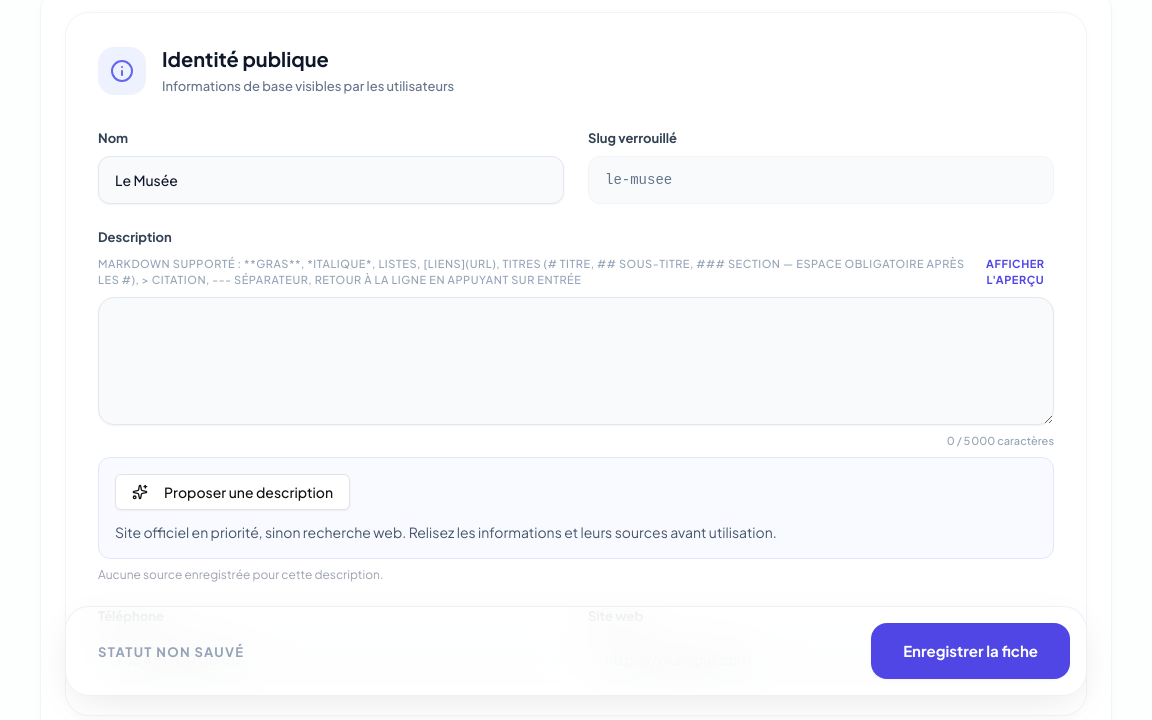
Test case: 041 AC-04 Admin publication controls › AC-04-01/03: keeps saved eligibility unchanged when saving the description fails
(page scrolled)
Type "Texte relu." into the text box labelled "Description" at (576, 361), box 98,297 -> 1054,425
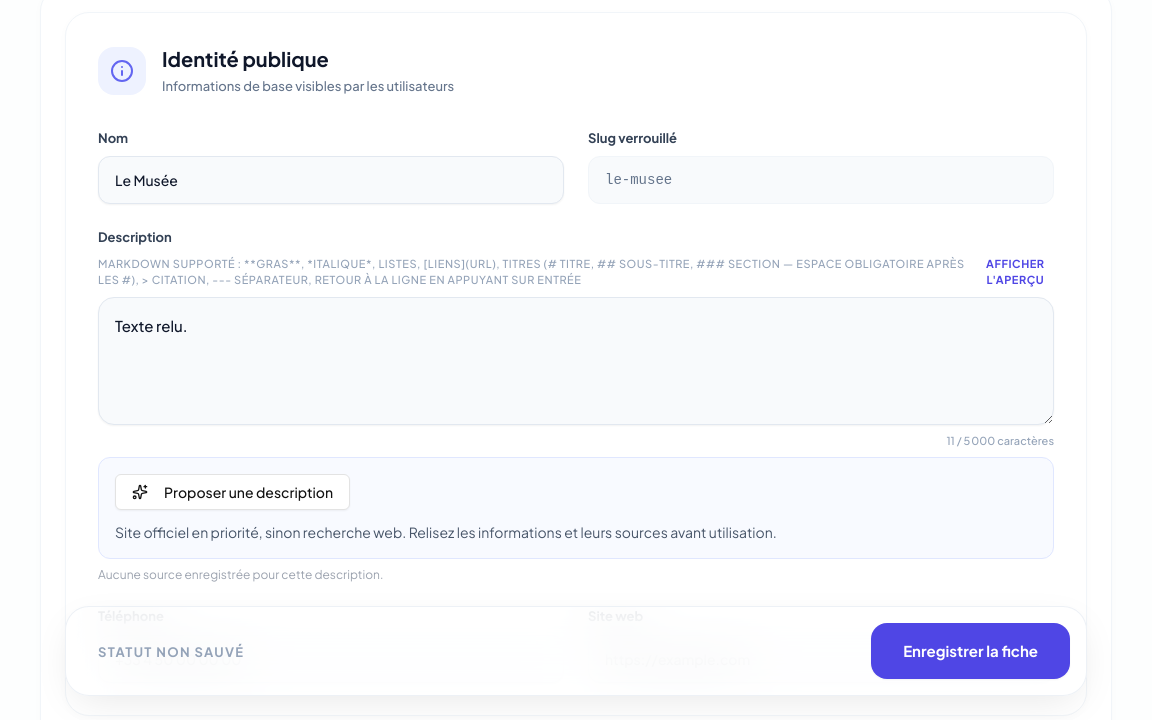
Click the button "Enregistrer la fiche" at (971, 651), box 871,623 -> 1070,679
(page scrolled)
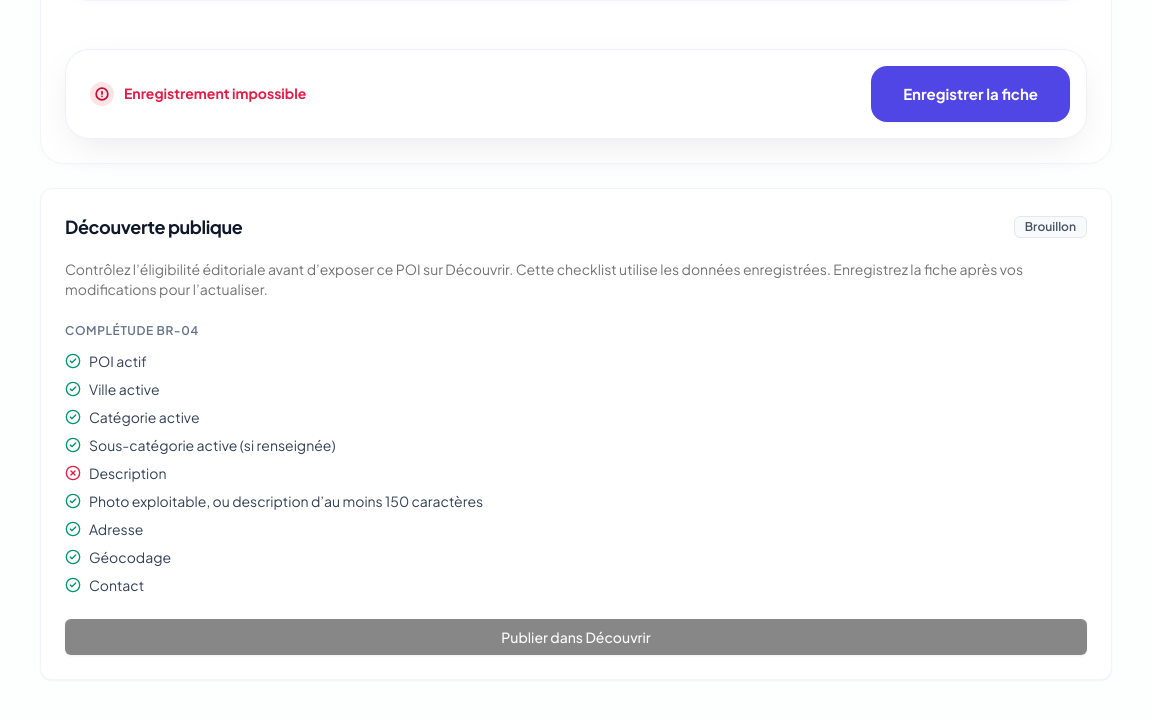
Expected: the list item with aria-label "Description : manquant" is shown, 64,464 -> 166,491
Result: the text "Enregistrement impossible" is shown at 90,82 -> 306,106
